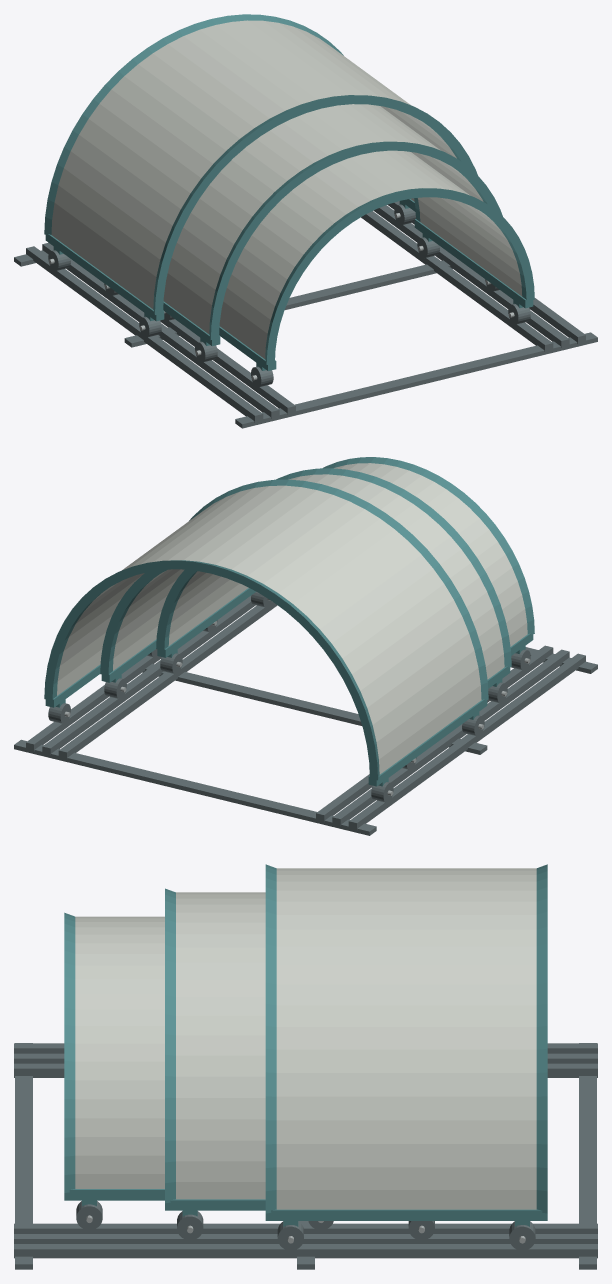
The picture shows the model from 3 angles, top to bottom: view 1: azimuth 30°, elevation 25°; view 2: azimuth 150°, elevation 25°; view 3: azimuth 270°, elevation 25°; orthographic projection. The views are drawn at different scales.
Parts seen in each view (by area): view 1: WholeNestedBarrelShell0, WholeNestedBarrelShell2, WholeNestedBarrelShell1, WholeSixLaneGroundTie0, Shell0LeftWholeContinuousRailLane, Shell1LeftWholeContinuousRailLane, Shell2RightWholeContinuousRailLane, Shell1RightWholeContinuousRailLane, WholeSixLaneGroundTie1, Shell2LeftWholeContinuousRailLane, Shell2RightWholeLongSill, Shell0LeftWholeLongSill (+3 smaller); view 2: WholeNestedBarrelShell0, WholeNestedBarrelShell1, WholeNestedBarrelShell2, WholeSixLaneGroundTie2, Shell0LeftWholeContinuousRailLane, Shell2RightWholeContinuousRailLane, Shell1LeftWholeContinuousRailLane, Shell1RightWholeContinuousRailLane, WholeSixLaneGroundTie1, Shell0RightWholeContinuousRailLane, Shell2LeftWholeContinuousRailLane, Shell0LeftWholeLongSill (+3 smaller); view 3: WholeNestedBarrelShell0, WholeNestedBarrelShell1, WholeNestedBarrelShell2, Shell0RightWholeContinuousRailLane, Shell1RightWholeContinuousRailLane, Shell2RightWholeContinuousRailLane, Shell0RightWholeLongSill, WholeSixLaneGroundTie0, WholeSixLaneGroundTie2, Shell2LeftWholeContinuousRailLane, Shell2RightWholeLongSill, Shell1RightWholeLongSill (+6 smaller).
Part boxes in pixels (<box>): WholeNestedBarrelShell0: <box>44,14,477,314</box>; WholeNestedBarrelShell2: <box>219,150,534,364</box>; WholeNestedBarrelShell1: <box>163,104,502,339</box>; WholeSixLaneGroundTie0: <box>235,332,597,428</box>; Shell0LeftWholeContinuousRailLane: <box>26,246,263,422</box>; Shell1LeftWholeContinuousRailLane: <box>42,242,279,418</box>; Shell2RightWholeContinuousRailLane: <box>361,211,553,351</box>; Shell1RightWholeContinuousRailLane: <box>373,205,569,348</box>; WholeSixLaneGroundTie1: <box>124,260,452,347</box>; Shell2LeftWholeContinuousRailLane: <box>160,319,295,414</box>; Shell2RightWholeLongSill: <box>414,219,533,308</box>; Shell0LeftWholeLongSill: <box>45,234,164,321</box>; WholeNestedBarrelShell0: <box>44,479,488,780</box>; WholeNestedBarrelShell1: <box>100,468,511,679</box>; WholeNestedBarrelShell2: <box>156,457,534,650</box>; WholeSixLaneGroundTie2: <box>14,739,376,835</box>; Shell0LeftWholeContinuousRailLane: <box>348,653,585,830</box>; Shell2RightWholeContinuousRailLane: <box>58,601,277,759</box>; Shell1LeftWholeContinuousRailLane: <box>332,649,569,826</box>; Shell1RightWholeContinuousRailLane: <box>42,595,255,755</box>; WholeSixLaneGroundTie1: <box>142,663,487,754</box>; Shell0RightWholeContinuousRailLane: <box>26,656,161,751</box>; Shell2LeftWholeContinuousRailLane: <box>316,645,553,822</box>; Shell0LeftWholeLongSill: <box>368,699,487,786</box>; WholeNestedBarrelShell0: <box>265,864,547,1213</box>; WholeNestedBarrelShell1: <box>165,888,265,1203</box>; WholeNestedBarrelShell2: <box>64,912,164,1192</box>; Shell0RightWholeContinuousRailLane: <box>14,1244,597,1258</box>; Shell1RightWholeContinuousRailLane: <box>14,1234,597,1243</box>; Shell2RightWholeContinuousRailLane: <box>14,1223,597,1233</box>; Shell0RightWholeLongSill: <box>265,1209,547,1220</box>; WholeSixLaneGroundTie0: <box>15,1043,32,1269</box>; WholeSixLaneGroundTie2: <box>579,1043,596,1269</box>; Shell2LeftWholeContinuousRailLane: <box>14,1063,597,1077</box>; Shell2RightWholeLongSill: <box>64,1189,164,1200</box>; Shell1RightWholeLongSill: <box>165,1199,265,1210</box>.
Size of the model in its own units: 5.2 by 2.98 by 5.8.
